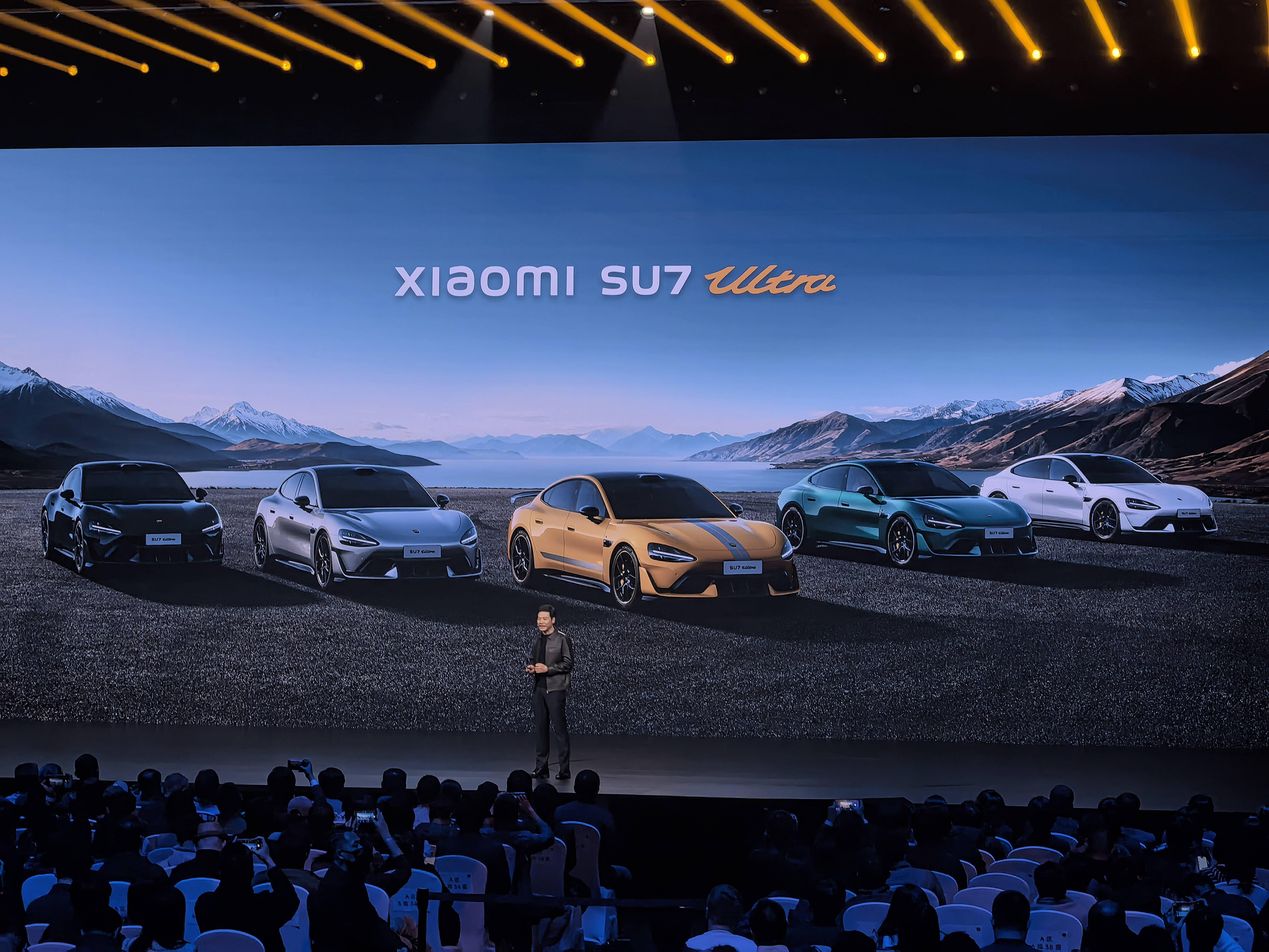su7: (499, 470, 817, 605), (255, 459, 490, 601), (788, 451, 1040, 580), (974, 436, 1227, 544), (41, 465, 223, 582)
